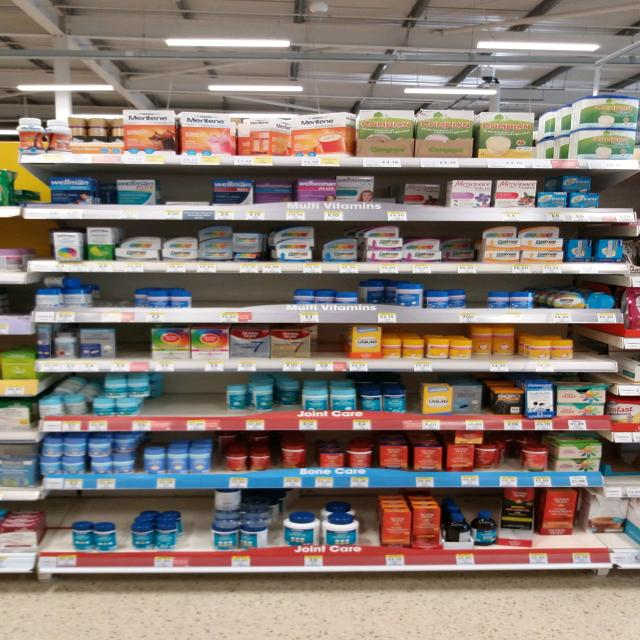void: (163, 374, 220, 414), (198, 287, 288, 309), (187, 491, 210, 552), (602, 173, 638, 206), (47, 500, 68, 548), (315, 327, 346, 358), (122, 328, 147, 356)
